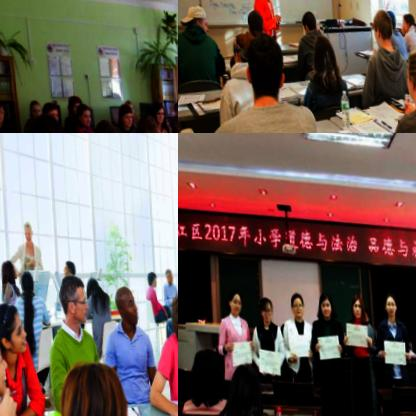head: (57, 353, 134, 416), (241, 29, 287, 95), (227, 360, 261, 412), (0, 302, 30, 358), (58, 274, 89, 327), (191, 345, 223, 395), (311, 29, 339, 82), (230, 28, 256, 70), (114, 283, 140, 322), (371, 3, 395, 45), (183, 1, 209, 37), (20, 113, 64, 133), (403, 43, 416, 106), (0, 325, 10, 397), (166, 285, 178, 343), (91, 112, 122, 133), (72, 99, 93, 129), (115, 100, 135, 130), (134, 109, 159, 133), (40, 97, 62, 124), (225, 284, 243, 316), (379, 0, 399, 28), (84, 269, 101, 301), (244, 6, 264, 33), (397, 2, 416, 30), (17, 267, 34, 298), (315, 288, 332, 318), (346, 287, 364, 315), (65, 89, 84, 115), (287, 287, 304, 316), (380, 285, 397, 314), (300, 6, 318, 33), (0, 254, 15, 285), (256, 295, 273, 318), (61, 256, 76, 278), (27, 95, 42, 115), (150, 96, 164, 117), (20, 218, 31, 242), (146, 264, 157, 283), (163, 263, 172, 280), (0, 96, 5, 126), (172, 93, 178, 115)
